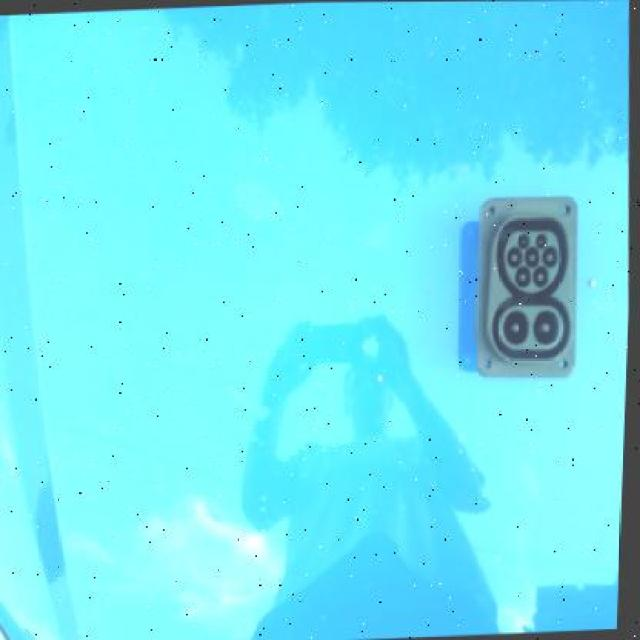CCS2: (425, 160, 602, 422)
